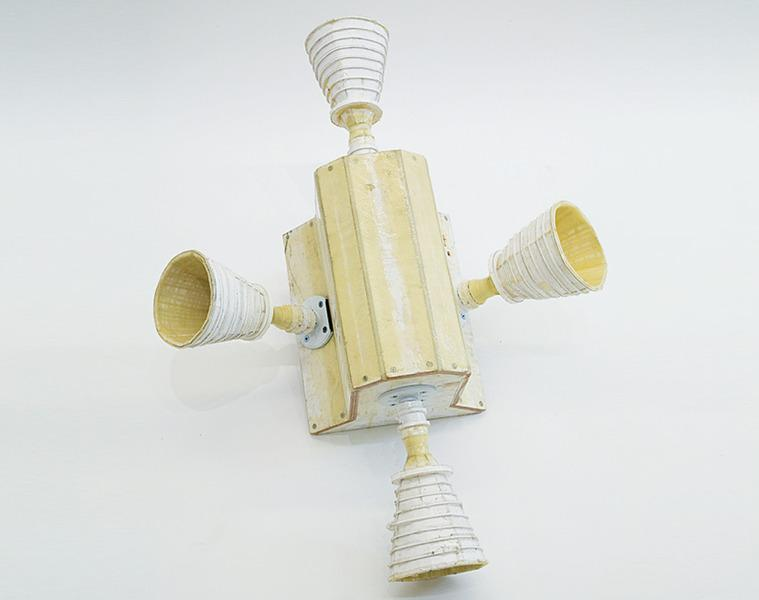body: (281, 149, 489, 441)
thruster: (486, 196, 614, 307), (384, 462, 492, 586), (151, 247, 277, 353), (301, 13, 393, 130)
